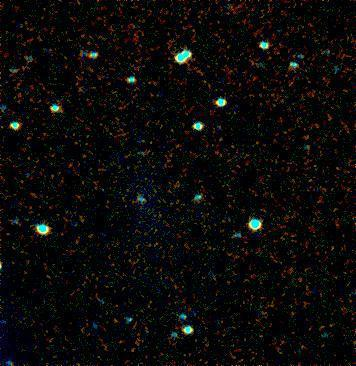star: (101, 302, 131, 332)
